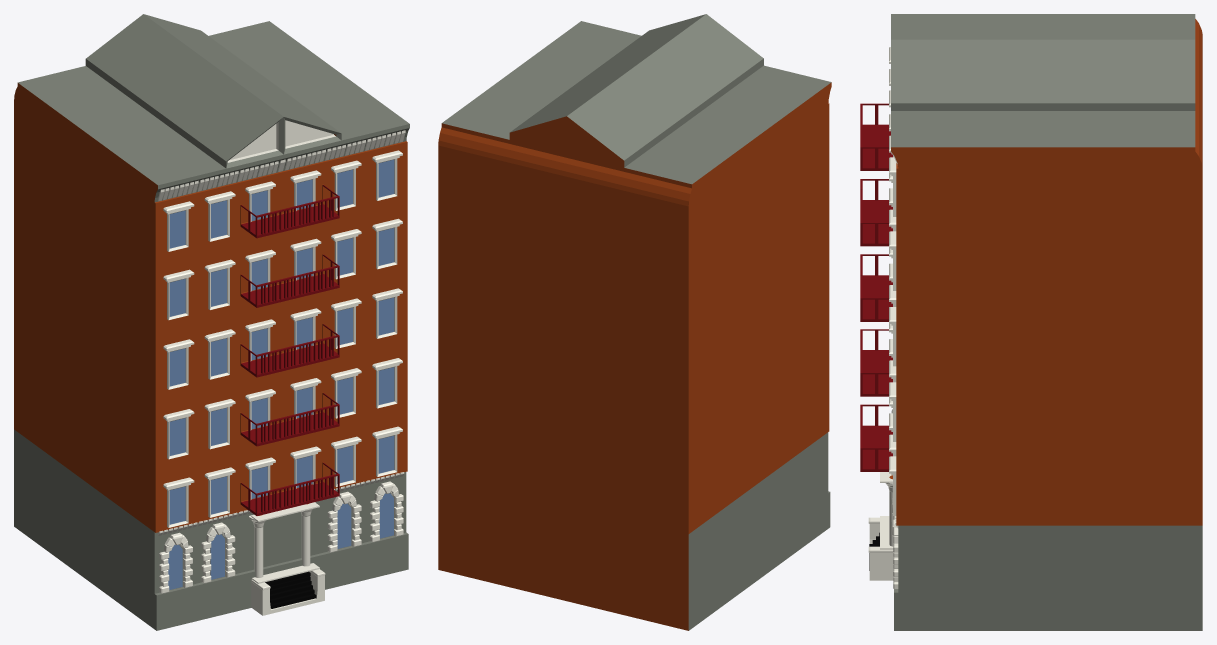
File: Дом 6.fbx
3 views of the same model, side by side, from view 1: azimuth 30°, elevation 25°; view 2: azimuth 150°, elevation 25°; view 3: azimuth 270°, elevation 25° (orthographic). The views are drawn at different scales.
Parts seen in each view (by area): view 1: Cube; view 2: Cube; view 3: Cube.
Boxes of the visible parts, box(x1,y1,x2,y2) form: Cube: box(14, 14, 409, 630); Cube: box(438, 14, 831, 630); Cube: box(860, 14, 1202, 630).
Size of the model in its own units: 121 by 222 by 132.
